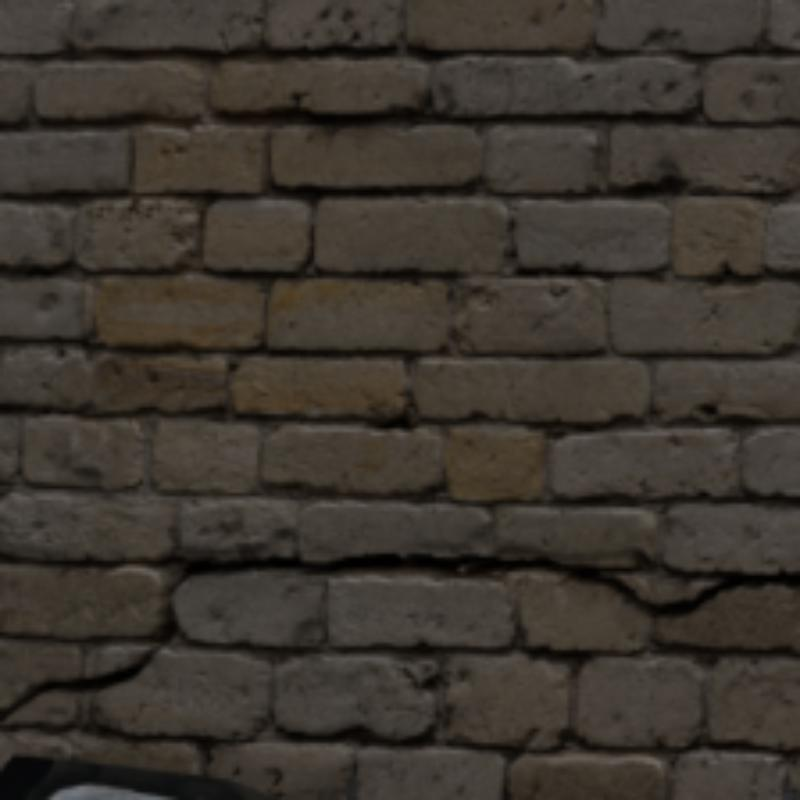crack: (0, 554, 796, 718)
